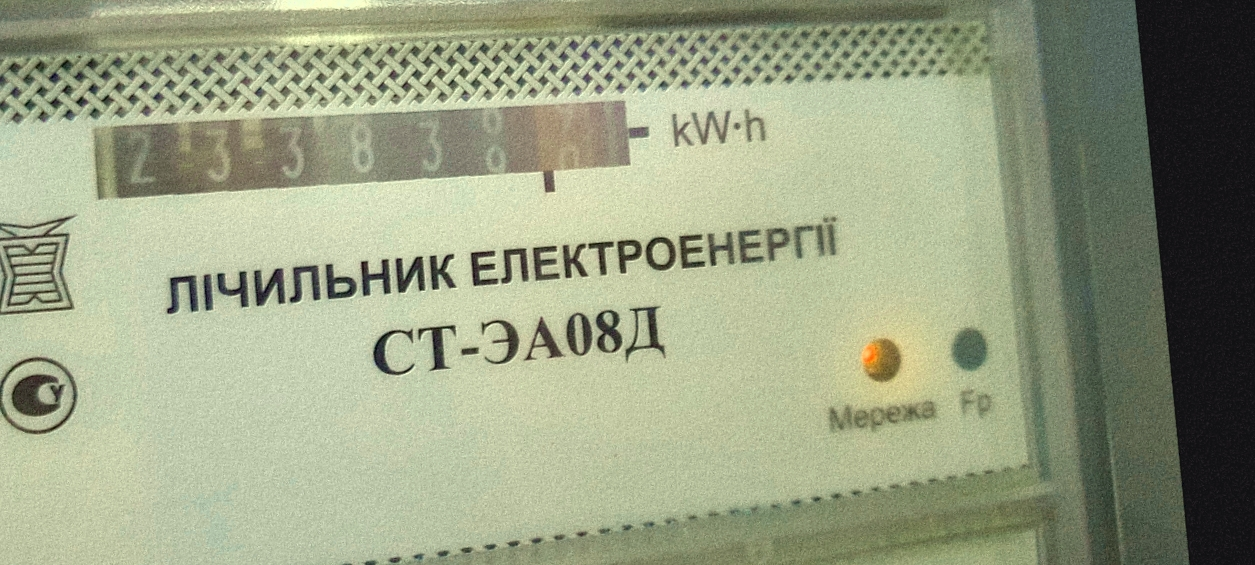0: (555, 141, 584, 177)
2: (119, 125, 163, 189)
3: (270, 118, 312, 185), (415, 114, 448, 174), (202, 124, 234, 185)
8: (342, 116, 381, 177), (479, 102, 508, 136)
9: (548, 97, 582, 138), (481, 141, 512, 179)
screen: (60, 52, 665, 264)
